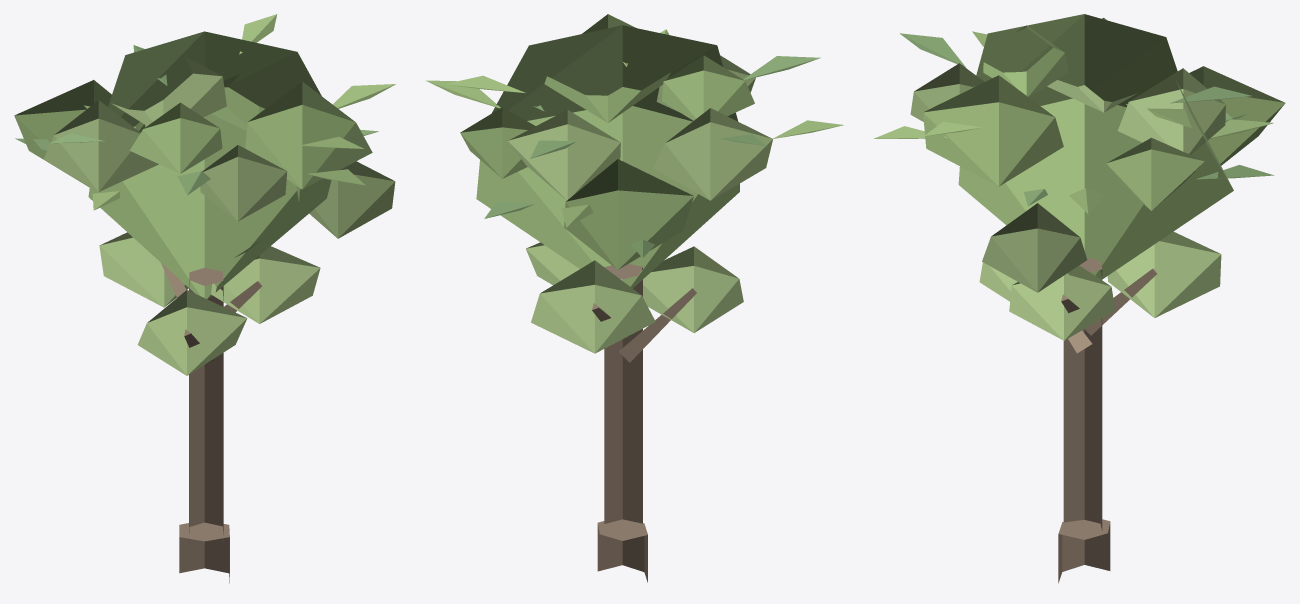
File: shu.yinxing@subadult__spring.glb
3 renders of one model, left to right at view 1: azimuth 30°, elevation 25°; view 2: azimuth 150°, elevation 25°; view 3: azimuth 270°, elevation 25°, orthographic. The views are drawn at different scales.
Visible parts, largest first — view 1: shu.yinxing@subadult__spring; view 2: shu.yinxing@subadult__spring; view 3: shu.yinxing@subadult__spring.
Part boxes in pixels (left/top/right/bottom): shu.yinxing@subadult__spring: left=14, top=14, right=395, bottom=583; shu.yinxing@subadult__spring: left=426, top=14, right=843, bottom=582; shu.yinxing@subadult__spring: left=873, top=14, right=1285, bottom=583.
Size of the model in its own units: 5.46 by 7.89 by 5.26.
